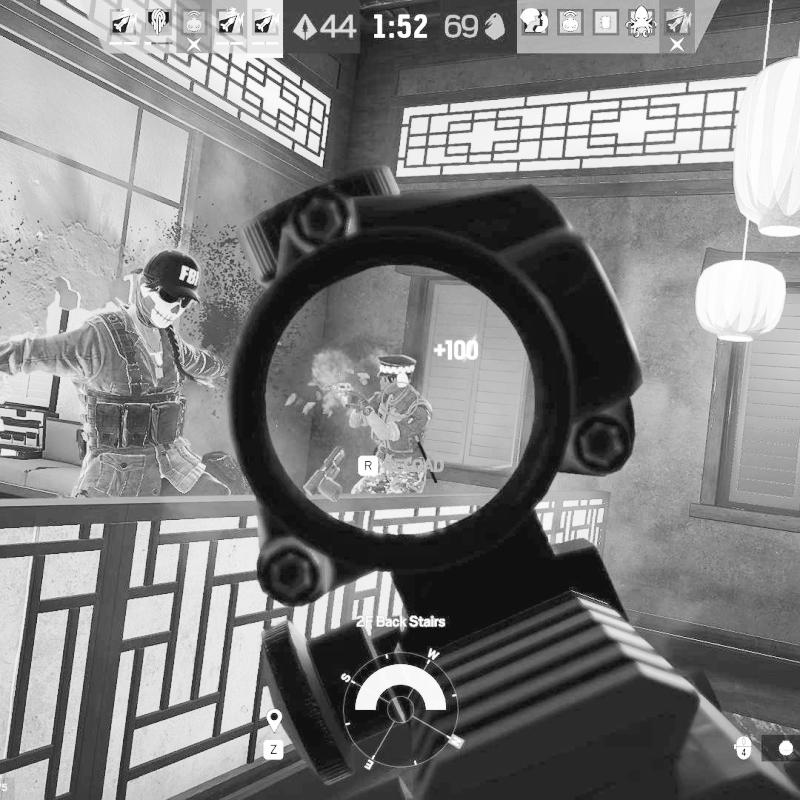Character: (0, 246, 238, 496), (334, 349, 438, 495)
Head: (136, 249, 204, 334), (377, 352, 419, 400)
